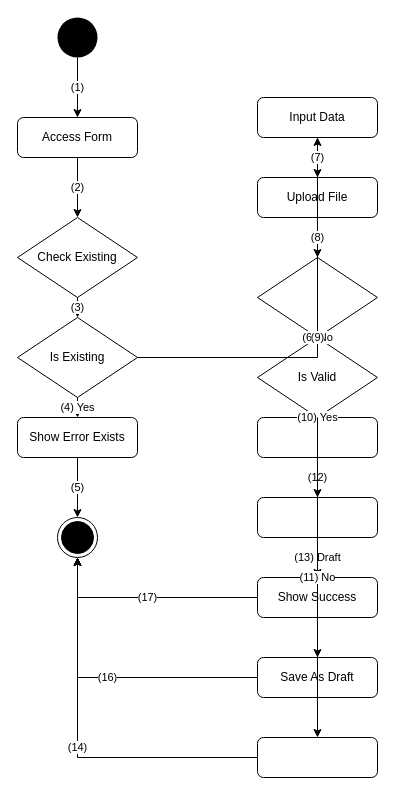
The diagram is 395 pixels wide and 795 high, and some of its shapes have lost their labels. The shapes that lost their labels are listed below. From the top down, each one's box as (x1, y1, x2, y2) in pixels, then its label:
(256, 256, 378, 338): Validate File
(256, 416, 378, 458): Click Submit
(256, 496, 378, 538): Save To DB
(256, 736, 378, 778): Show File Error
